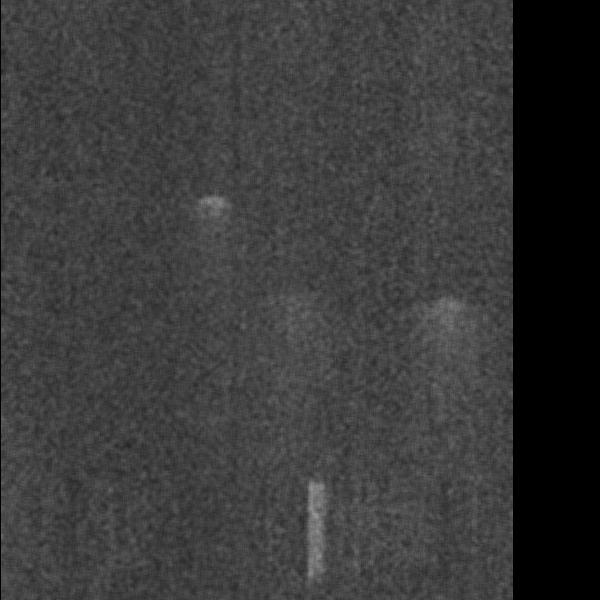spark: (381, 246, 450, 296), (436, 440, 500, 485), (169, 337, 235, 380), (396, 375, 461, 410), (94, 565, 155, 600), (5, 496, 40, 525), (2, 445, 15, 481)
